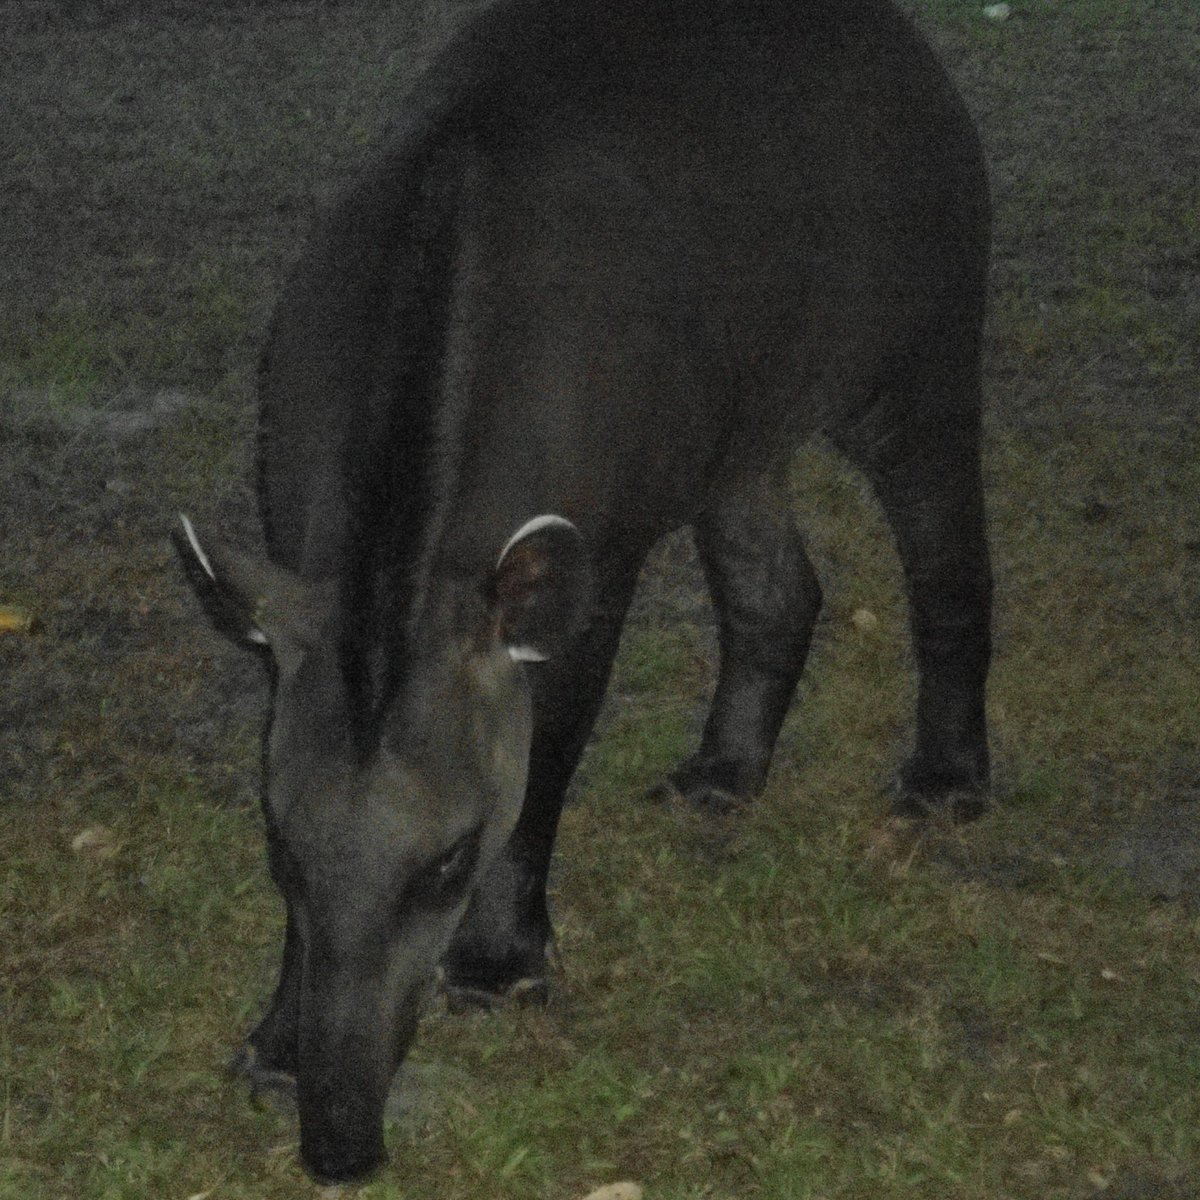Anta: (130, 5, 1009, 1187)
